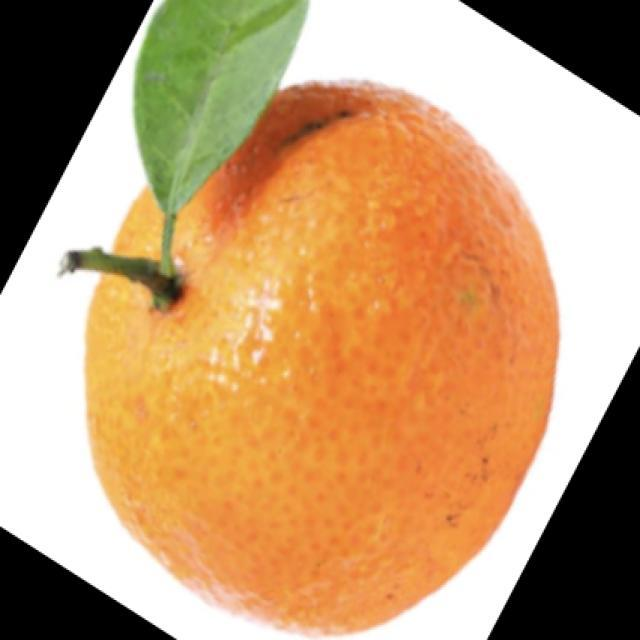matang: (86, 0, 558, 633)
